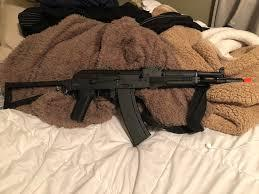larga: (2, 66, 252, 148)
